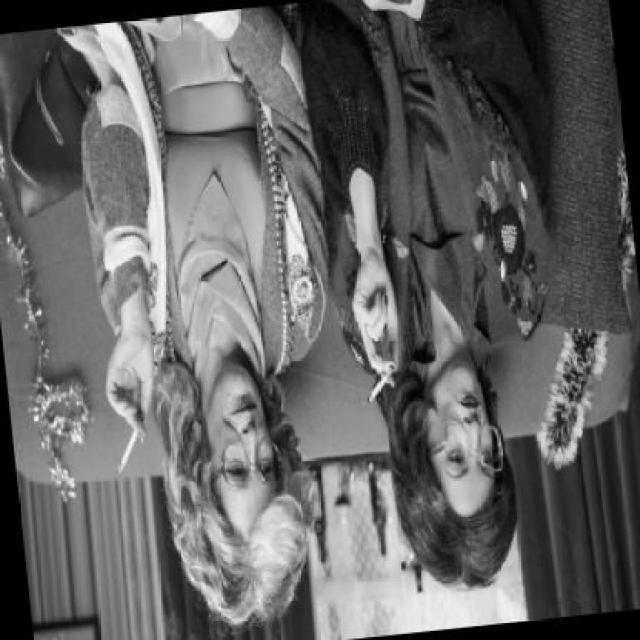smoke: (108, 410, 150, 472), (360, 366, 394, 406)
